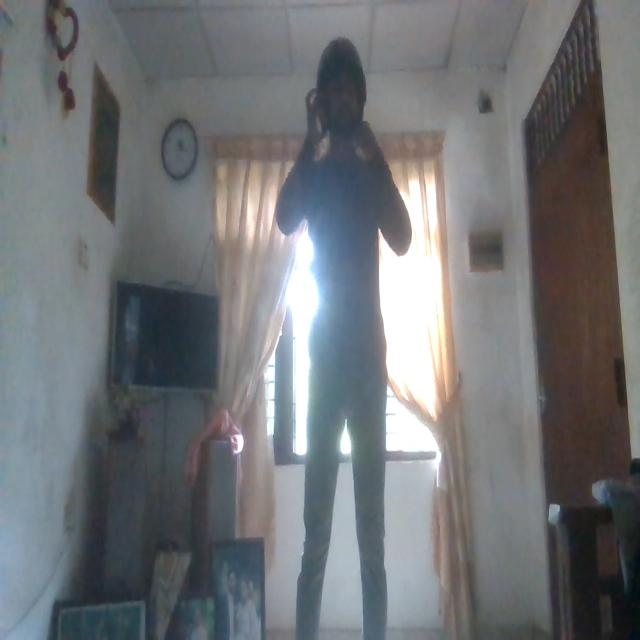Helmet_Wearer: (310, 31, 372, 154)
Person: (279, 47, 414, 640)
